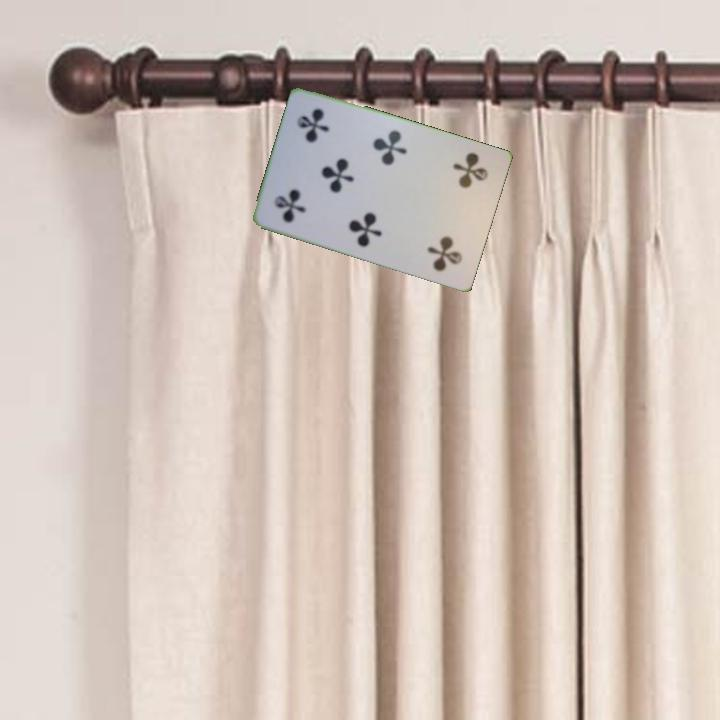c_7.png: (426, 142, 500, 222), (262, 155, 336, 234)
